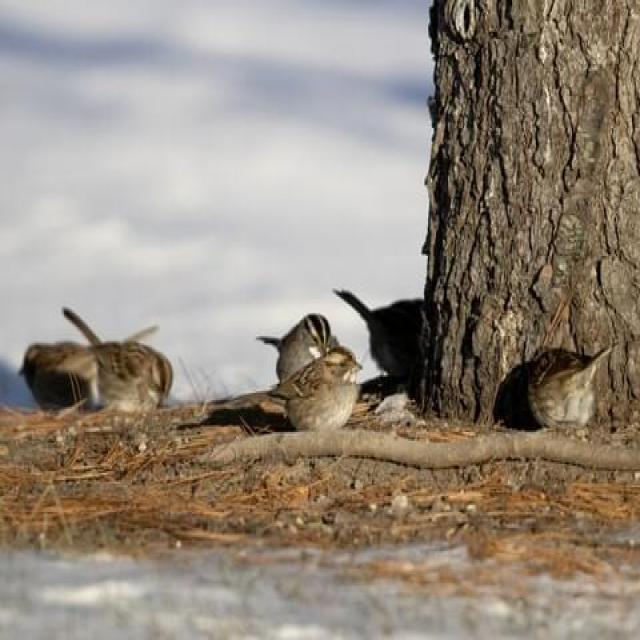bird: (58, 303, 176, 412), (251, 346, 369, 440), (528, 348, 622, 427)
